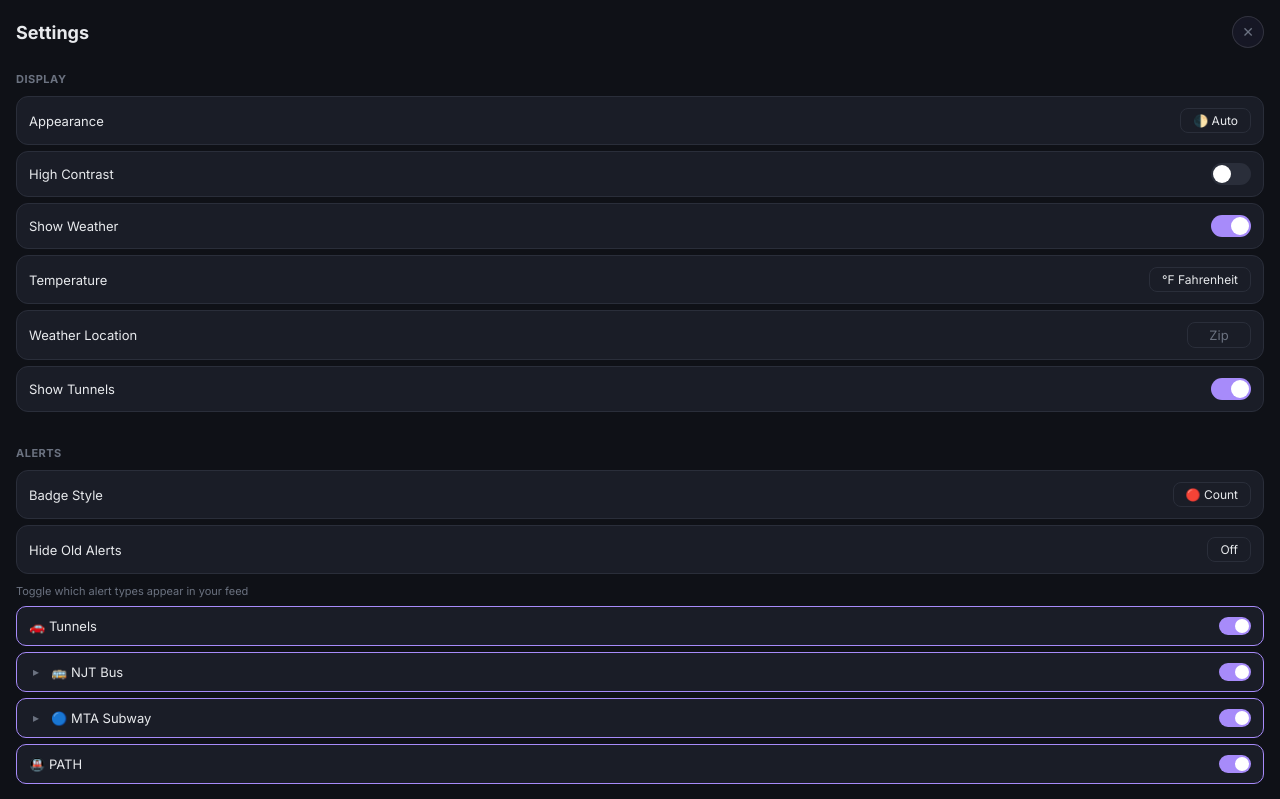
it: Alert Source Toggles — Granular Per-Line › expands to show individual sub-toggles when category label tapped
Tap the NJT Bus label to expand
Click the text "🚌 NJT Bus": (87, 672) [51, 664, 123, 680]
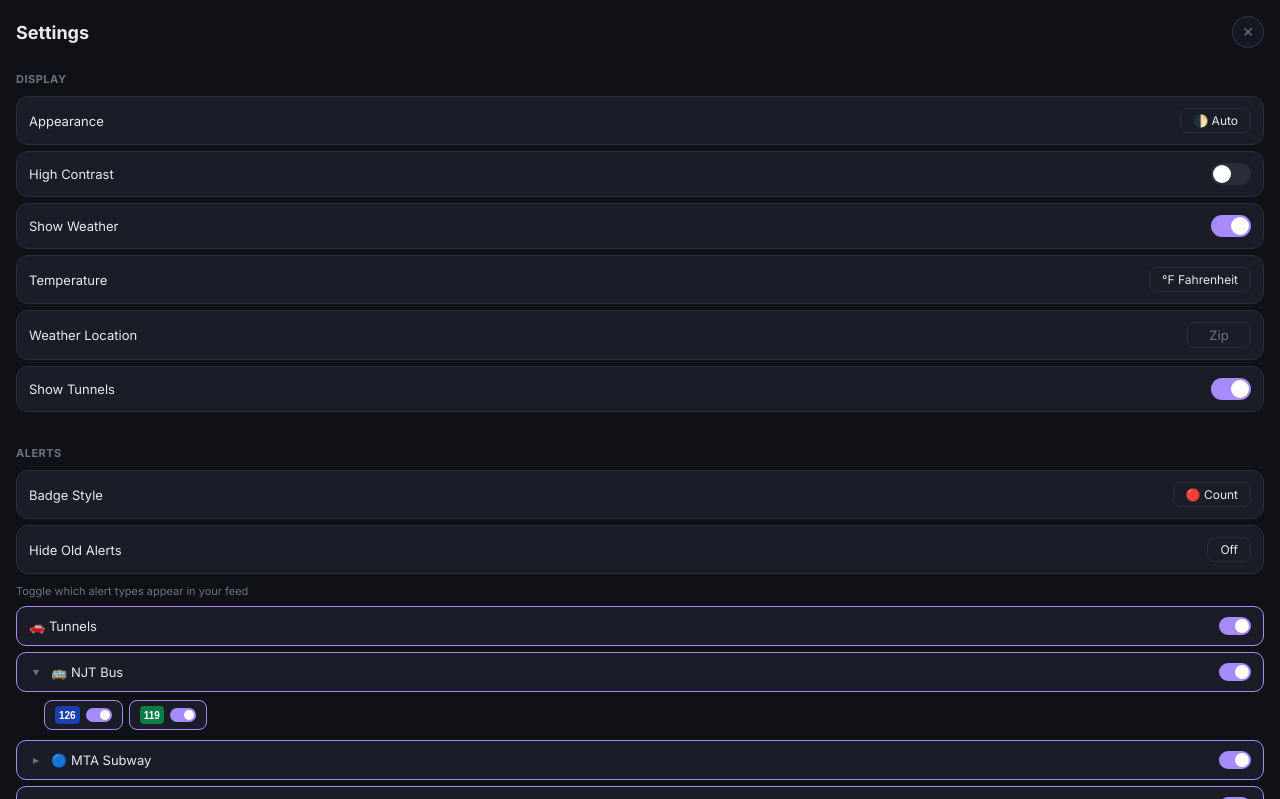
Expected: the text "126" is shown, [55, 706, 80, 724]
